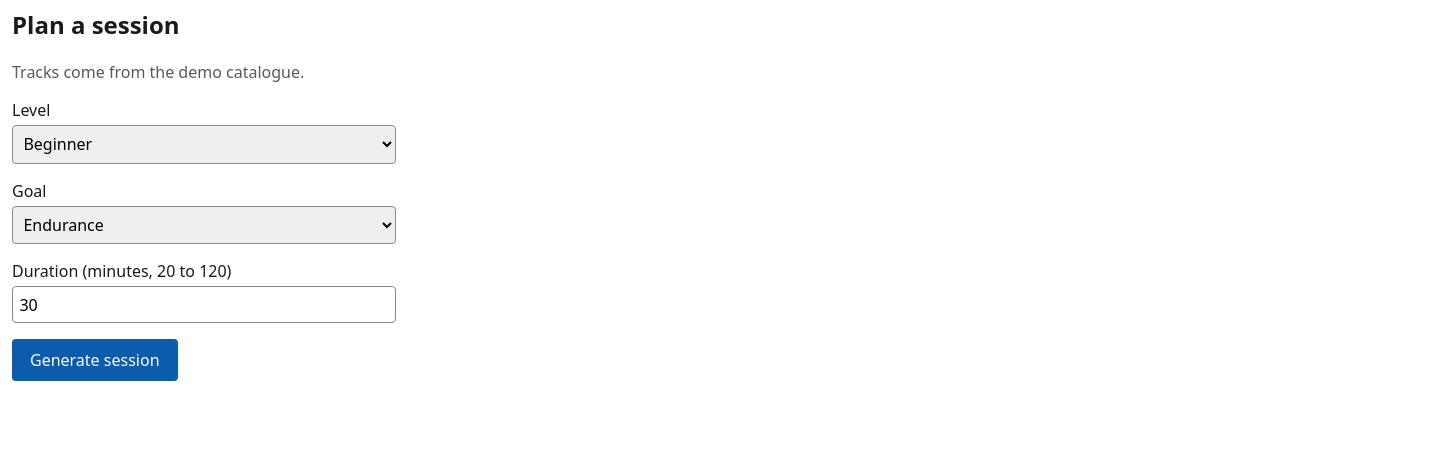
GenerateForm › shows a network error distinct from an API refusal
Click the button "Generate session" at (95, 360), box 12,339 -> 178,381
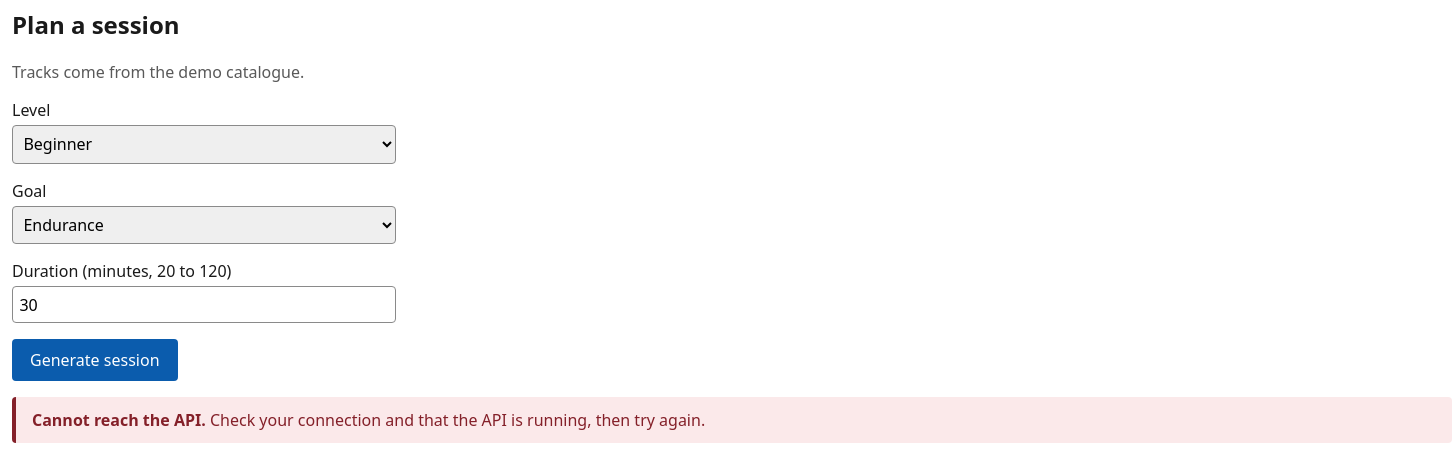
Expected: the message does not show "Reasons returned", 12,397 -> 1451,443
Now the message shows "Cannot reach the API", box 32,409 -> 206,431
